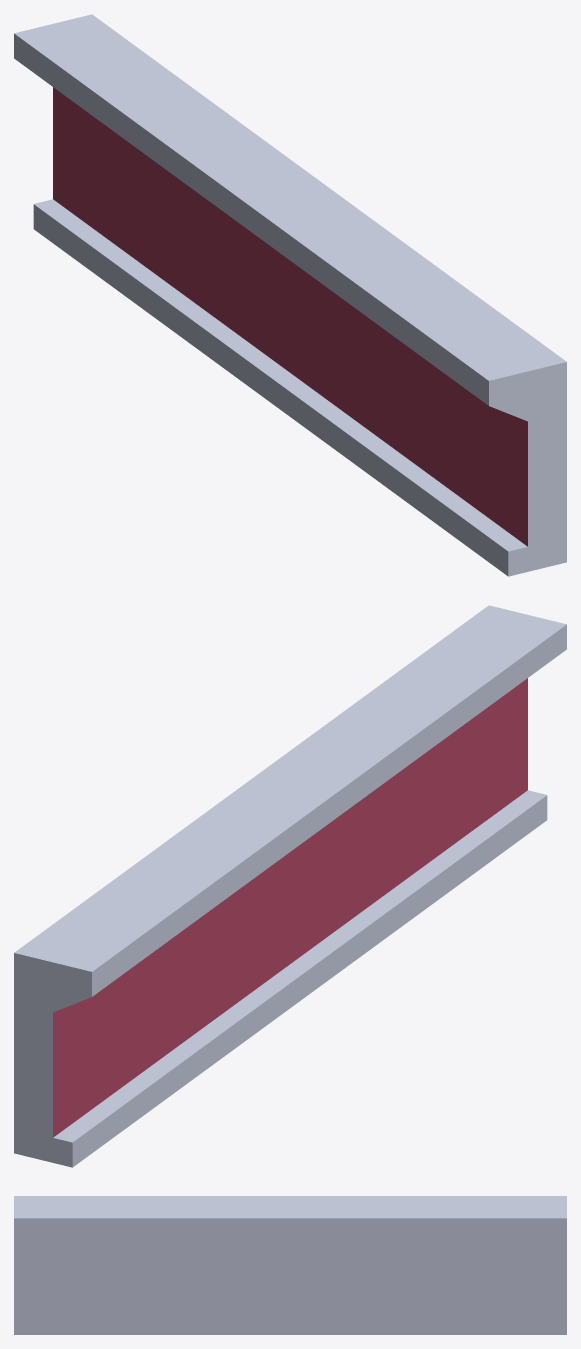
3 views of the same model, one above another, from view 1: azimuth 30°, elevation 25°; view 2: azimuth 150°, elevation 25°; view 3: azimuth 270°, elevation 25° (orthographic). The views are drawn at different scales.
Visible parts, largest first — view 1: object_022; view 2: object_022; view 3: object_022.
Boxes of the visible parts, bbox=[...] form: object_022: bbox=[14, 14, 566, 576]; object_022: bbox=[14, 605, 566, 1167]; object_022: bbox=[14, 1196, 566, 1334].
Size of the model in its own units: 0.95 by 2.33 by 10.
